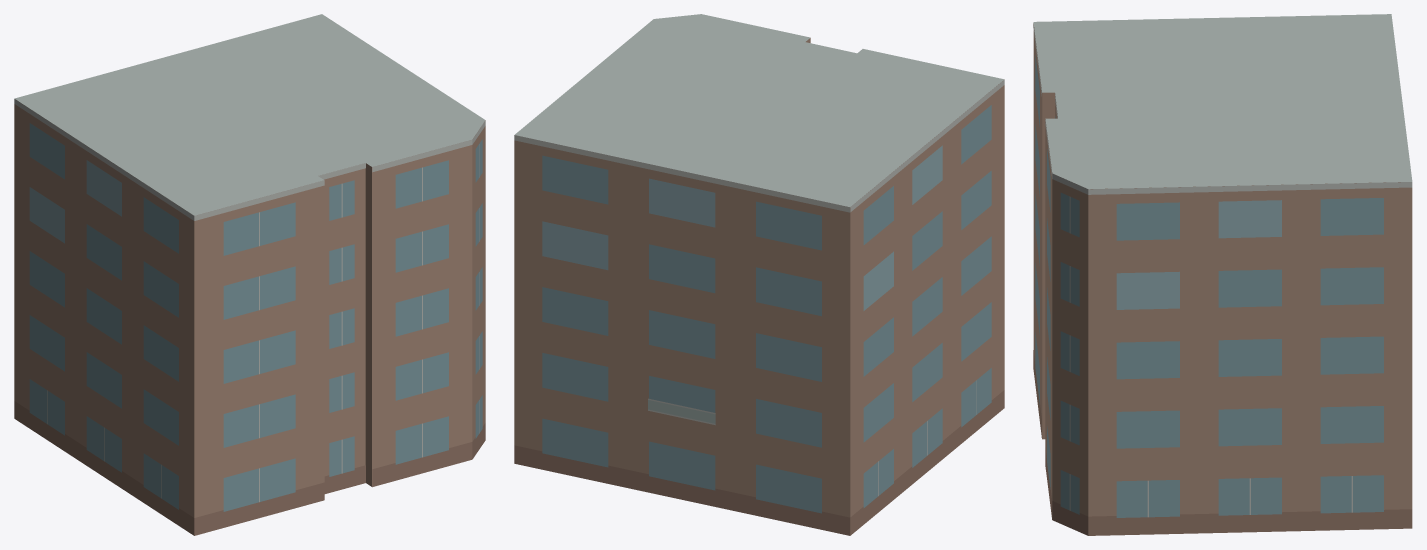
The model's file is survey-upis-32745688.glb.
The picture shows the model from 3 angles, left to right: view 1: azimuth 30°, elevation 25°; view 2: azimuth 150°, elevation 25°; view 3: azimuth 270°, elevation 25°; orthographic projection. The views are drawn at different scales.
Parts seen in each view (by area): view 1: survey-upis-32745688.tmp; view 2: survey-upis-32745688.tmp; view 3: survey-upis-32745688.tmp.
Boxes of the visible parts, bbox=[...] form: survey-upis-32745688.tmp: bbox=[14, 14, 485, 535]; survey-upis-32745688.tmp: bbox=[514, 14, 1004, 535]; survey-upis-32745688.tmp: bbox=[1033, 14, 1412, 535].
Size of the model in its own units: 16.04 by 14.8 by 14.67.
